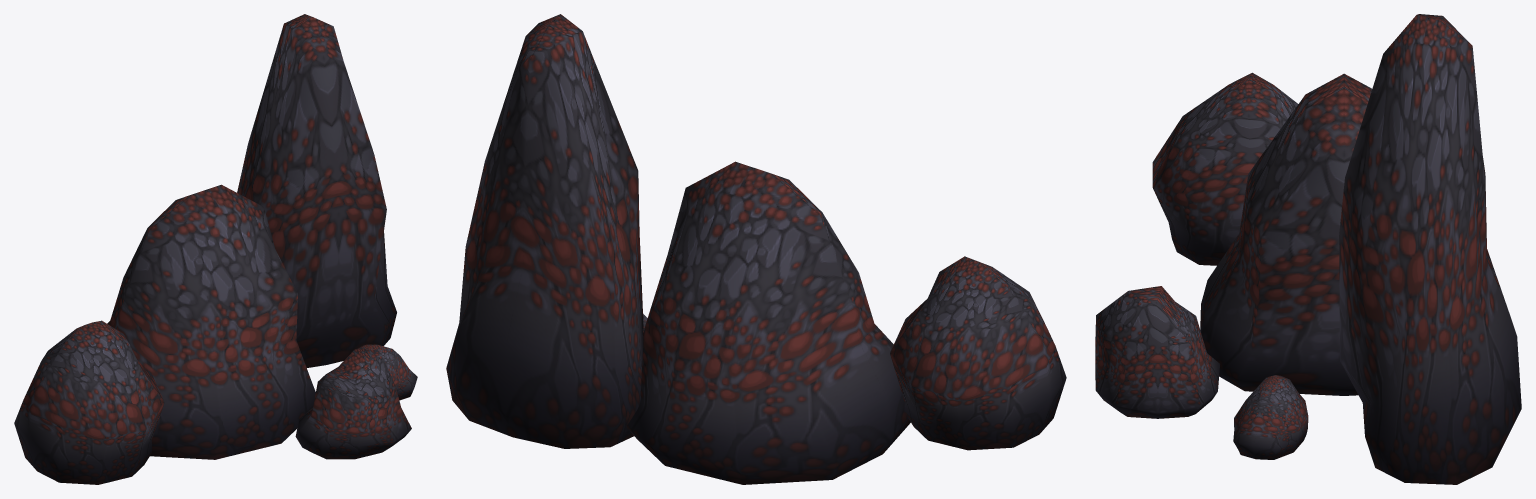
File: Rock_03_Group2.FBX
3 views of the same model, side by side, from view 1: azimuth 30°, elevation 25°; view 2: azimuth 150°, elevation 25°; view 3: azimuth 270°, elevation 25° (orthographic). The views are drawn at different scales.
Parts seen in each view (by area): view 1: Rock_03_Group2; view 2: Rock_03_Group2; view 3: Rock_03_Group2.
Part boxes in pixels (x1,y1,x2,y2): Rock_03_Group2: (14, 14, 417, 484); Rock_03_Group2: (446, 14, 1066, 484); Rock_03_Group2: (1095, 14, 1521, 484).
Bounding box in the file's own units: 222 × 165 × 151.
